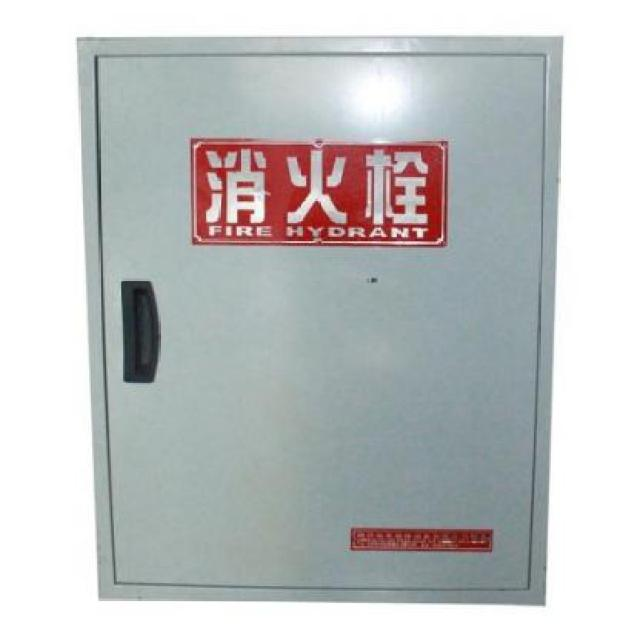firehydrant: (69, 28, 572, 616)
